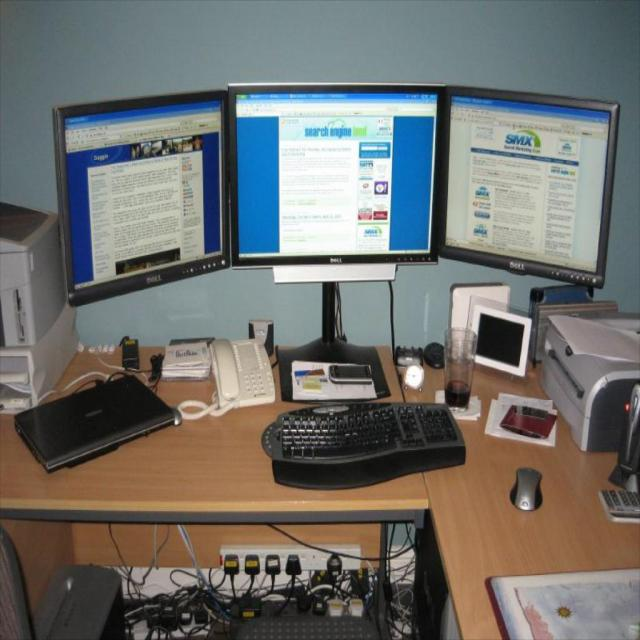desk: (0, 332, 451, 611)
keyboard: (261, 401, 466, 482)
laptop: (14, 369, 182, 473)
mouse: (509, 468, 543, 512)
tv: (227, 83, 445, 277), (52, 89, 230, 309), (440, 87, 620, 291)
